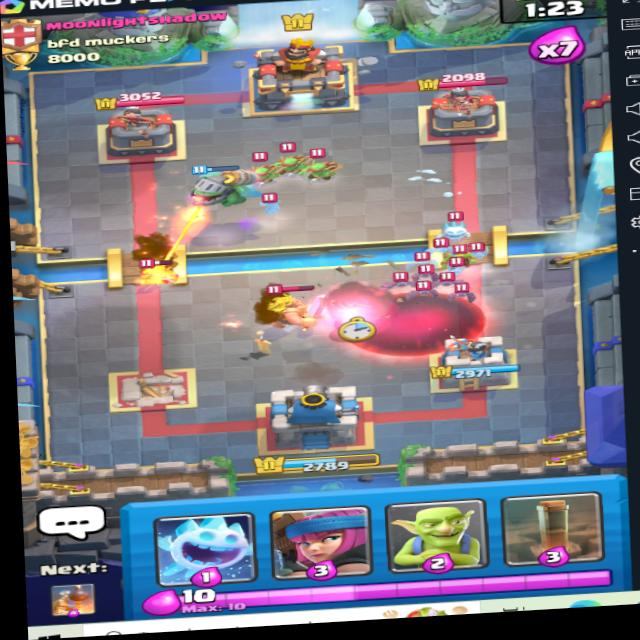bats: (410, 260, 440, 287), (411, 283, 448, 304), (449, 282, 482, 304), (433, 271, 469, 287), (385, 273, 414, 291)
goblin: (140, 251, 178, 287)
golden-knight: (250, 278, 333, 339)
ice-spirit: (435, 213, 475, 249)
spear-goblin: (299, 149, 347, 184), (235, 144, 273, 184), (269, 140, 308, 172)
void: (334, 275, 502, 365)
